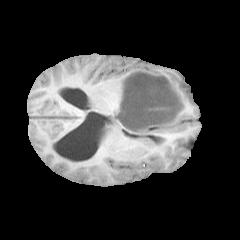glioma: (113, 67, 185, 135)
